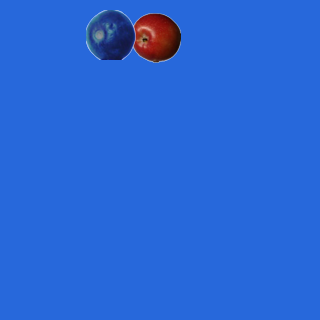Apple Braeburn: (130, 12, 180, 62)
Huckleberry: (85, 9, 135, 59)
